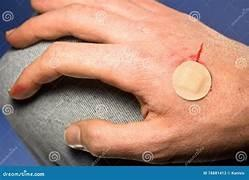Bandage: (173, 60, 211, 99)
